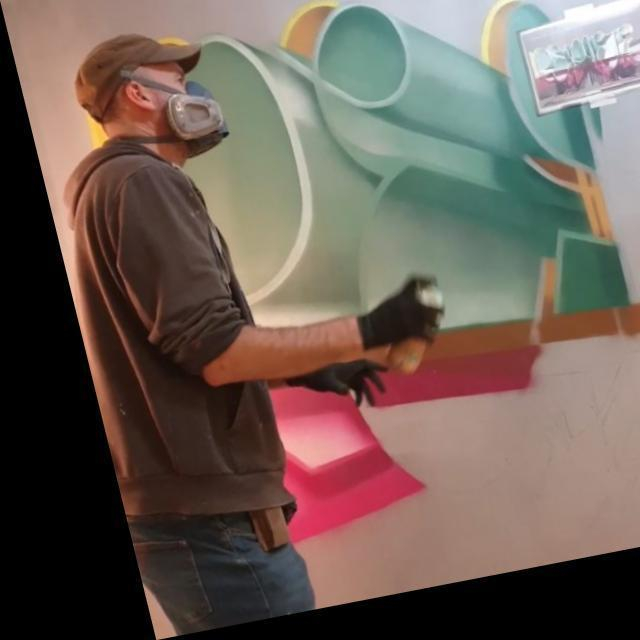-: (51, 0, 640, 580)
